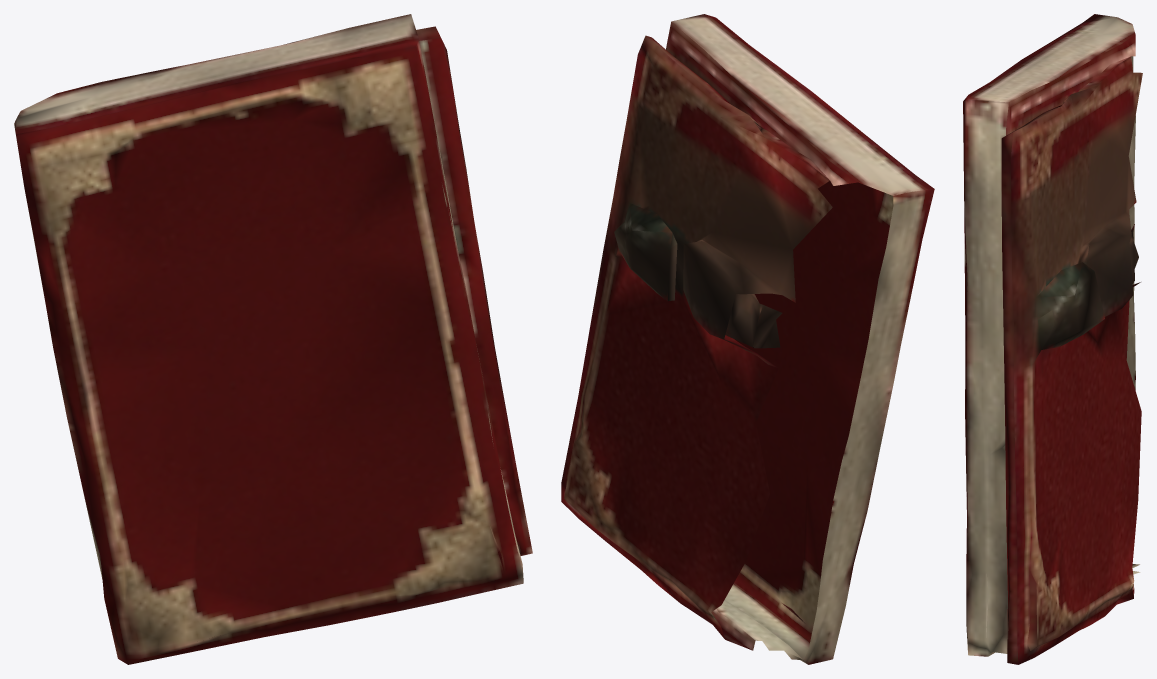
File: book.glb
3 renders of one model, left to right at view 1: azimuth 30°, elevation 25°; view 2: azimuth 150°, elevation 25°; view 3: azimuth 270°, elevation 25°, orthographic. The views are drawn at different scales.
Visible parts, largest first — view 1: Mesh_0.001; view 2: Mesh_0.001; view 3: Mesh_0.001.
Boxes of the visible parts, x1=… form: Mesh_0.001: x1=14, y1=14, x2=532, y2=664; Mesh_0.001: x1=561, y1=14, x2=934, y2=664; Mesh_0.001: x1=963, y1=14, x2=1142, y2=664.
Size of the model in its own units: 0.3515 by 0.4531 by 0.1309.
Materials: 1 (1 with a texture image).
